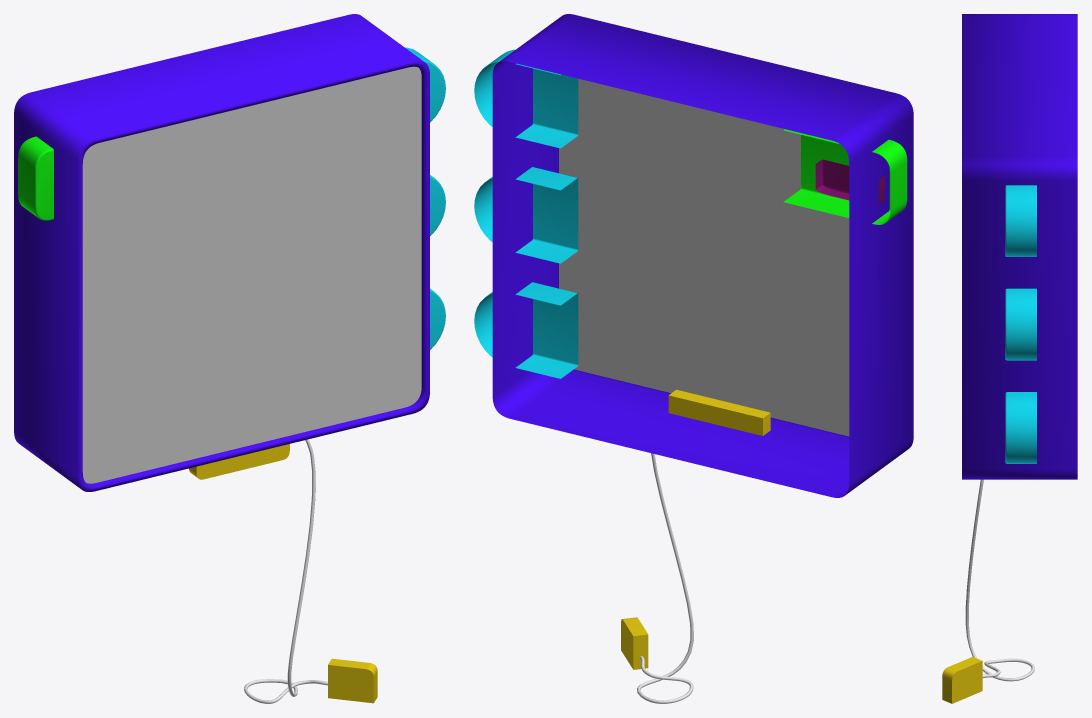
The model's file is MAIN_MENU.fbx.
3 views of the same model, side by side, from view 1: azimuth 30°, elevation 25°; view 2: azimuth 150°, elevation 25°; view 3: azimuth 270°, elevation 25° (orthographic). The views are drawn at different scales.
Visible parts, largest first — view 1: Main_SCREEN, LANGUAGE_ROLL_OUT, SOCKET, CABLE, PAIR, OB_SPEECH, OB_MENU, OB_MOVEMENT; view 2: Main_SCREEN, OB_MOVEMENT, OB_MENU, OB_SPEECH, LANGUAGE_ROLL_OUT, CABLE, PAIR, FLAG_ROLL_OUT, SOCKET, UN_PAIR; view 3: Main_SCREEN, OB_MOVEMENT, OB_SPEECH, OB_MENU, SOCKET, CABLE.
Boxes of the visible parts, left/top/right/bottom form: Main_SCREEN: left=14, top=14, right=429, bottom=491; LANGUAGE_ROLL_OUT: left=18, top=136, right=53, bottom=220; SOCKET: left=328, top=658, right=377, bottom=703; CABLE: left=244, top=439, right=327, bottom=703; PAIR: left=228, top=444, right=289, bottom=473; OB_SPEECH: left=405, top=47, right=445, bottom=122; OB_MENU: left=430, top=289, right=445, bottom=349; OB_MOVEMENT: left=430, top=175, right=445, bottom=235; Main_SCREEN: left=492, top=14, right=913, bottom=497; OB_MOVEMENT: left=474, top=167, right=578, bottom=263; OB_MENU: left=474, top=282, right=578, bottom=378; OB_SPEECH: left=474, top=49, right=578, bottom=148; LANGUAGE_ROLL_OUT: left=783, top=129, right=907, bottom=224; CABLE: left=637, top=453, right=693, bottom=703; PAIR: left=668, top=389, right=738, bottom=427; FLAG_ROLL_OUT: left=815, top=159, right=884, bottom=205; SOCKET: left=621, top=617, right=648, bottom=669; UN_PAIR: left=730, top=405, right=770, bottom=435; Main_SCREEN: left=962, top=14, right=1077, bottom=479; OB_MOVEMENT: left=1005, top=288, right=1036, bottom=360; OB_SPEECH: left=1005, top=185, right=1036, bottom=256; OB_MENU: left=1005, top=392, right=1036, bottom=463; SOCKET: left=942, top=657, right=982, bottom=703; CABLE: left=965, top=479, right=1034, bottom=681.
Bounding box in the file's own units: 6.48 × 9.37 × 2.03.
